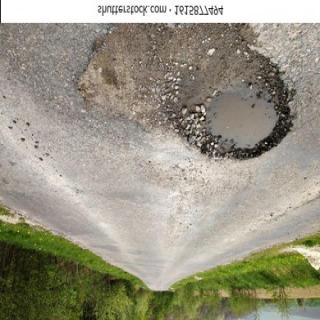pothole: (72, 23, 297, 160)
